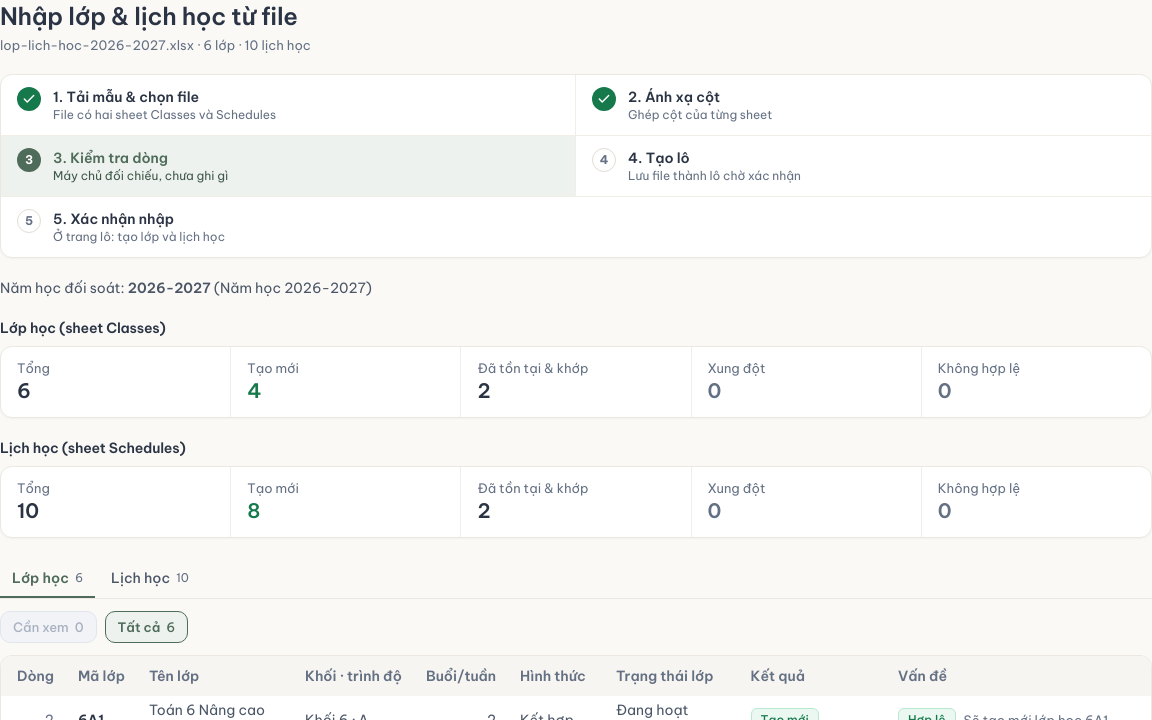
Scenario: ClassScheduleImportPage: review › shows both summary strips and the sheets' rows with state words and weekdays in words
Expected: the number of list items is 5, [1,75,576,135]; [592,87,772,122]; [1,135,576,196]; [576,135,1151,196]; [1,196,1151,257]
Expected: the table "dòng lịch học" is not shown
Click the tab "Lịch học 10": (150, 578) [99,558,201,598]
(page scrolled)
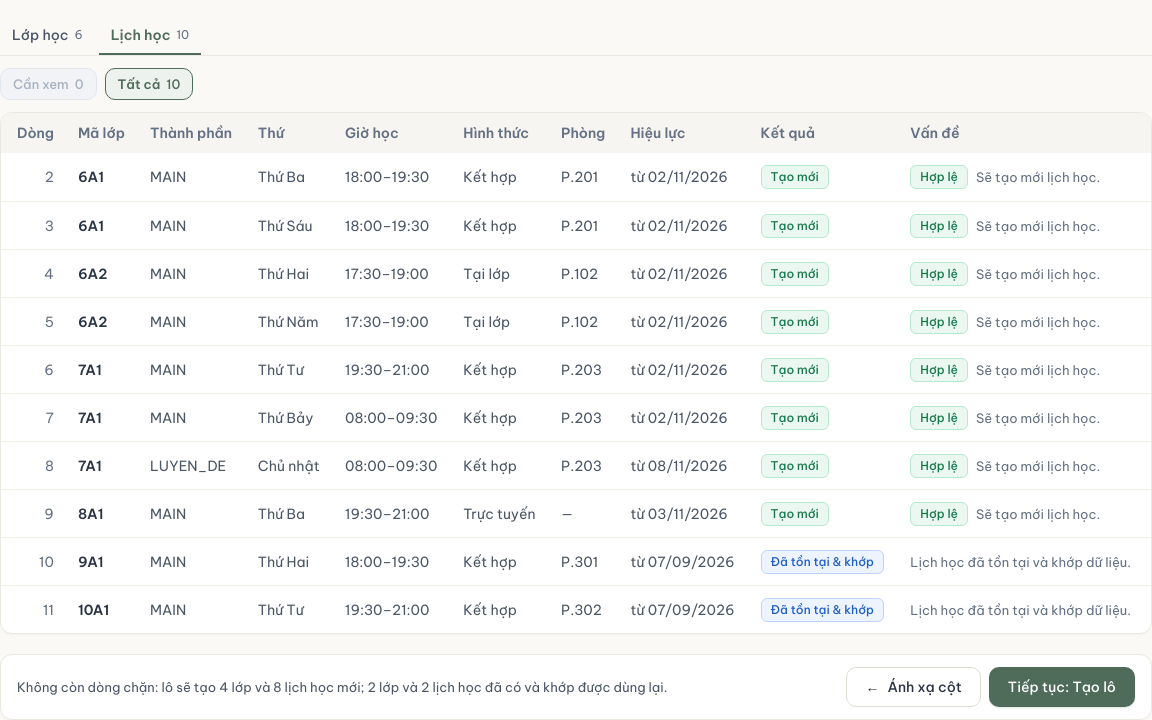
Expected: the 1st text "Thứ Hai" is shown, [246,249,333,297]
Expected: the 1st text "Thứ Ba" is shown, [246,153,333,201]
Expected: the 1st text "Thứ Tư" is shown, [246,345,333,393]
